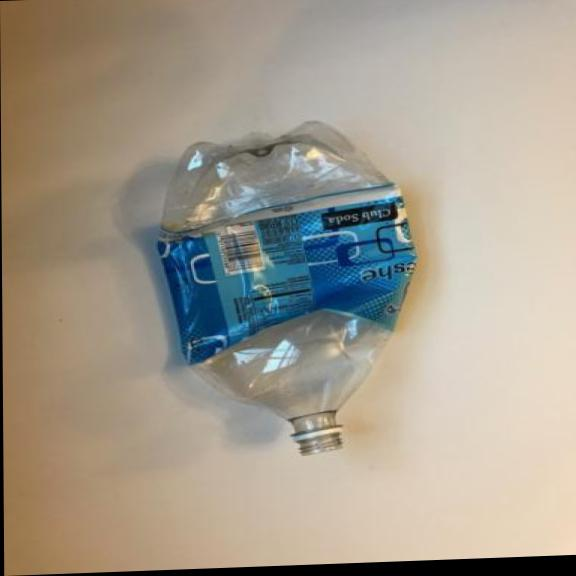Plastik: (153, 116, 422, 464)
